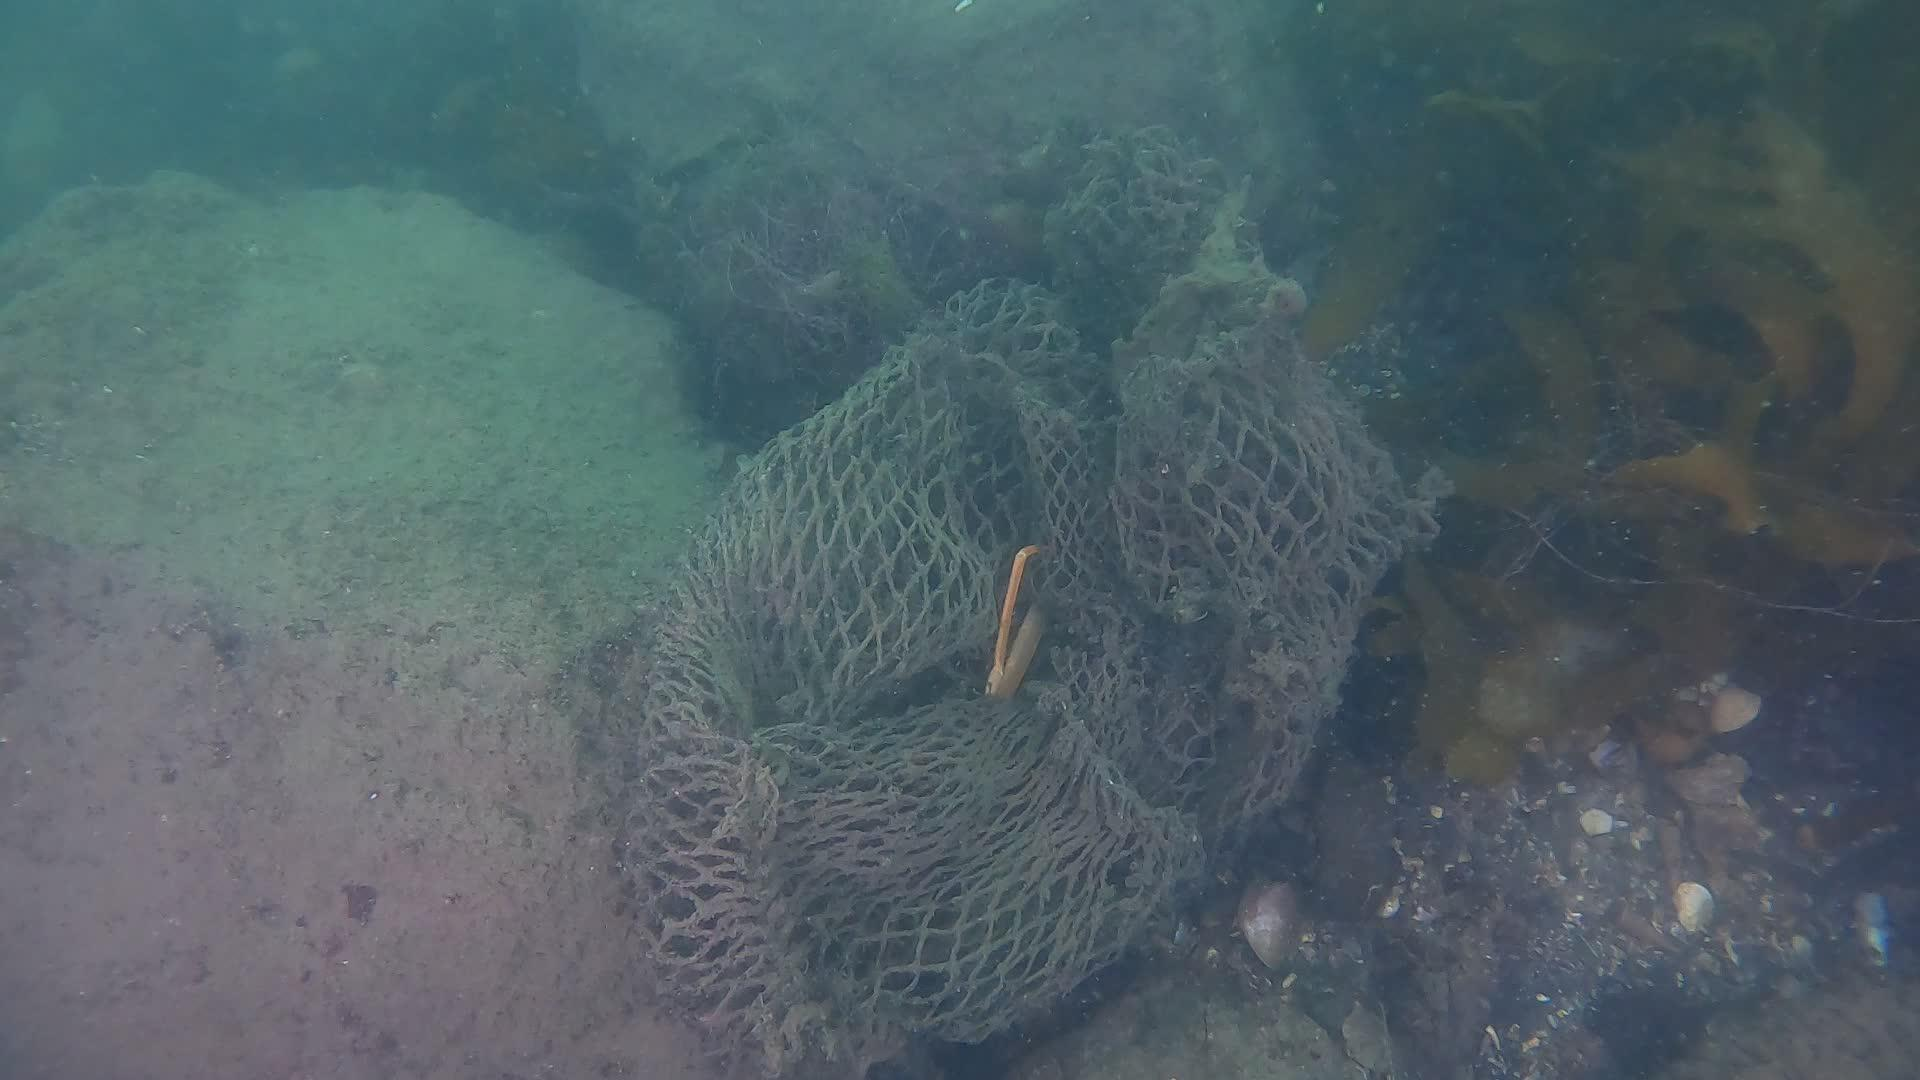fish net: (617, 273, 1424, 1073)
